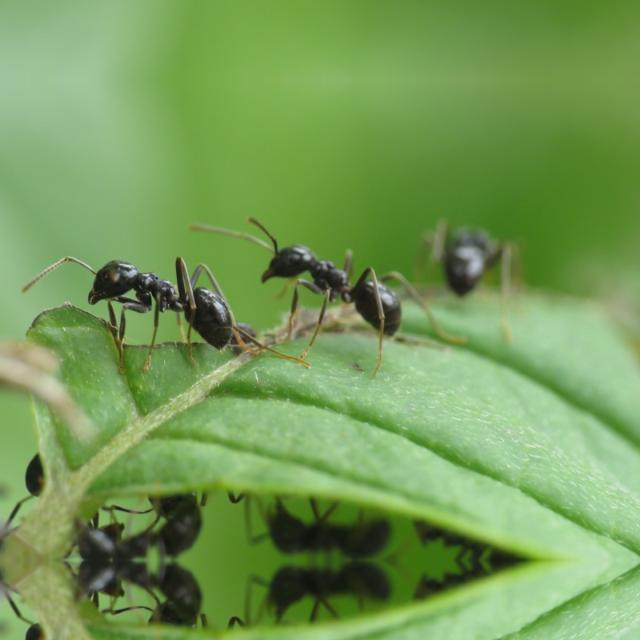Lasius: (42, 232, 282, 352), (246, 213, 429, 341), (255, 474, 421, 560), (255, 560, 421, 640), (404, 202, 528, 298), (77, 486, 237, 560), (77, 560, 237, 634)
